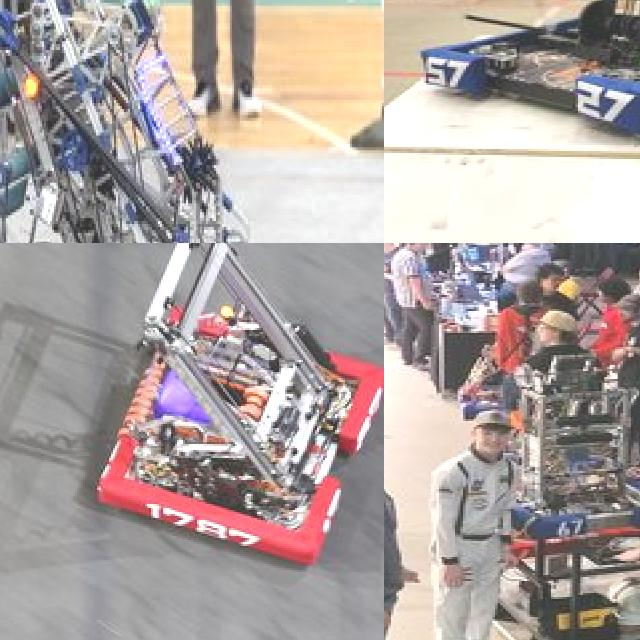FRC-Robots: (109, 243, 377, 564), (0, 0, 279, 243), (384, 0, 640, 169), (512, 412, 640, 560)
